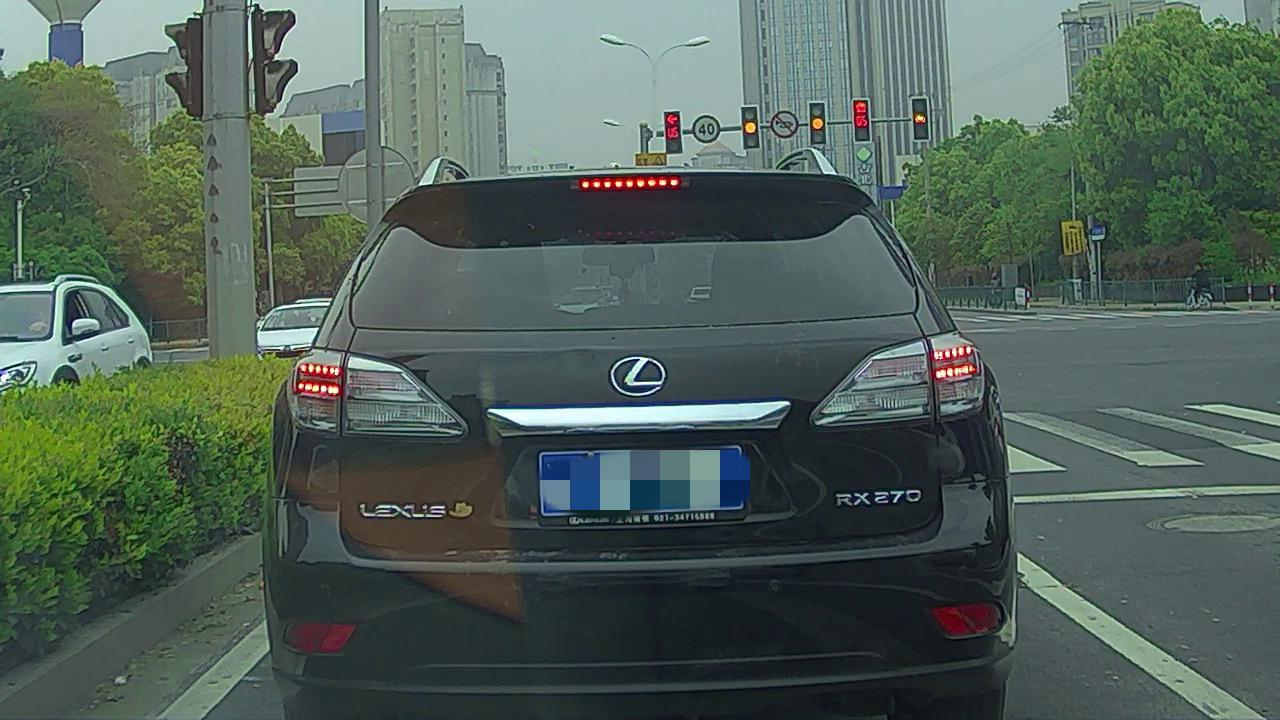traffic_light: (853, 99, 871, 142), (743, 105, 760, 147), (809, 102, 826, 144), (664, 112, 681, 153), (914, 97, 929, 138)
